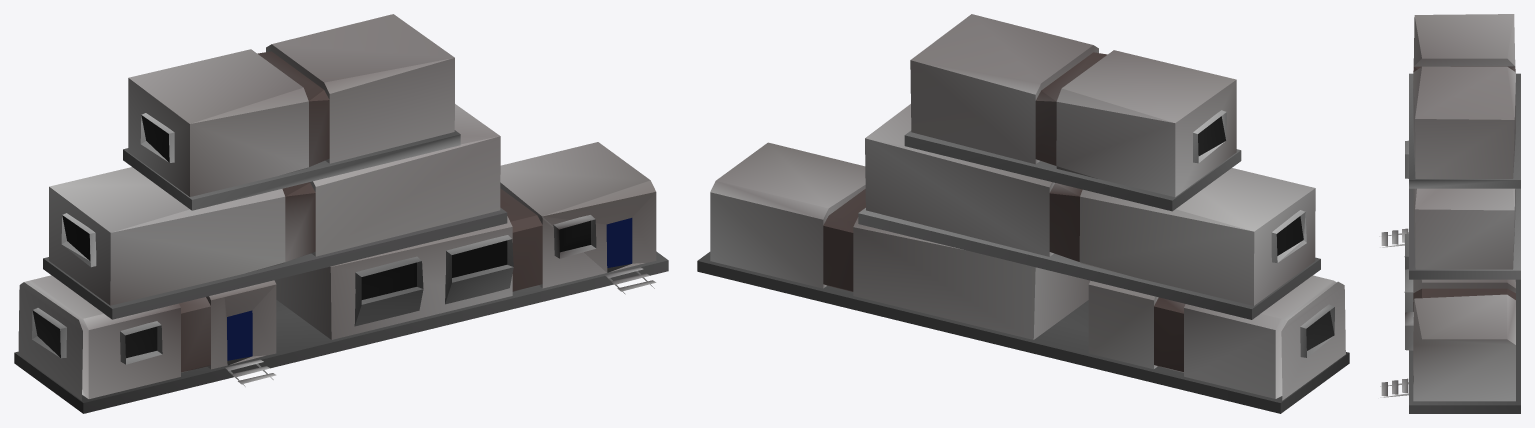
The model's file is Edificio7.fbx.
The picture shows the model from 3 angles, left to right: view 1: azimuth 30°, elevation 25°; view 2: azimuth 150°, elevation 25°; view 3: azimuth 270°, elevation 25°; orthographic projection. The views are drawn at different scales.
Parts seen in each view (by area): view 1: edificacao7; view 2: edificacao7; view 3: edificacao7.
Boxes of the visible parts, x1,y1,x2,y2 form: edificacao7: (14, 14, 668, 413); edificacao7: (697, 14, 1349, 413); edificacao7: (1379, 14, 1520, 413).
Size of the model in its own units: 2996 by 1285 by 776.
